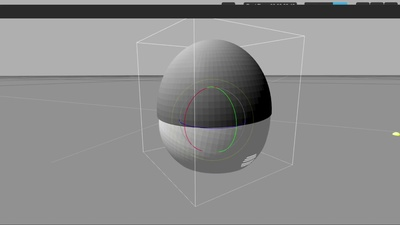mira_robot: (157, 39, 272, 175)
